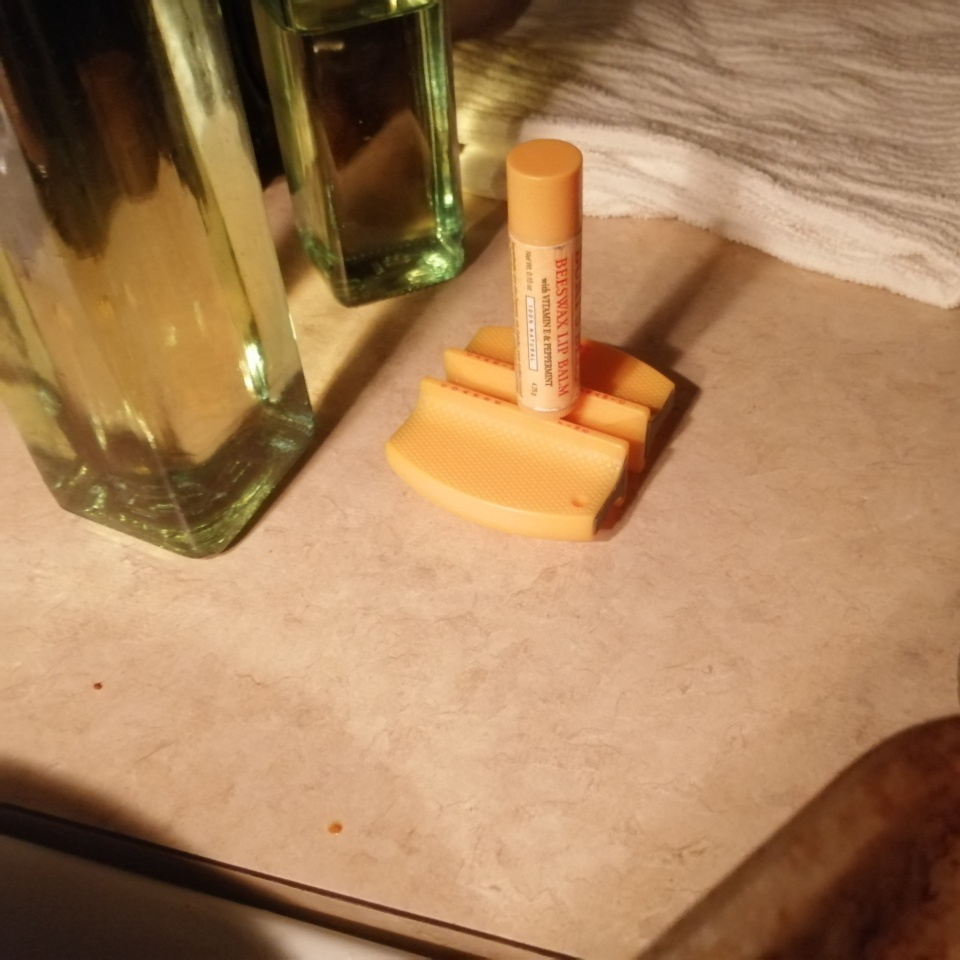chapstick: (503, 138, 585, 416)
